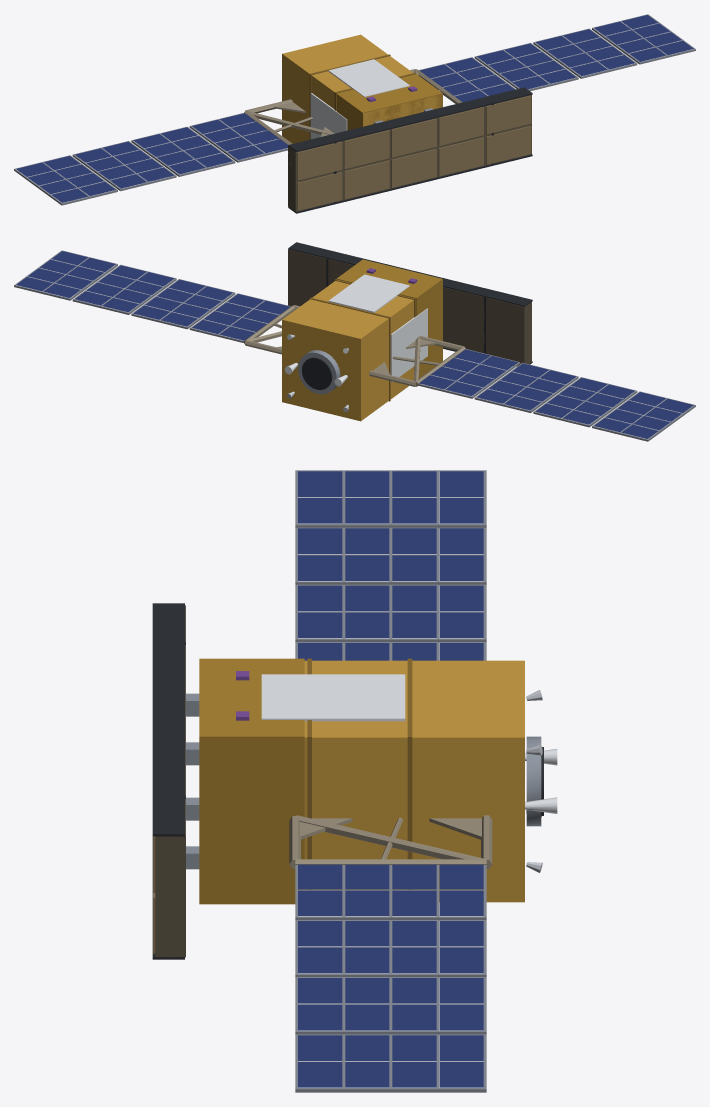
Rendered from csg.glb.
The picture shows the model from 3 angles, top to bottom: view 1: azimuth 30°, elevation 25°; view 2: azimuth 150°, elevation 25°; view 3: azimuth 270°, elevation 25°; orthographic projection. The views are drawn at different scales.
Visible parts, largest first — view 1: body, solar-panel, foil; view 2: body, solar-panel, foil; view 3: solar-panel, foil, body.
Part boxes in pixels (box(x1,y1,x2,y2)): body: box(14, 14, 695, 213); solar-panel: box(16, 15, 693, 202); foil: box(282, 34, 442, 143); body: box(14, 242, 695, 441); solar-panel: box(16, 251, 693, 438); foil: box(282, 259, 442, 421); solar-panel: box(298, 471, 483, 1087); foil: box(199, 658, 524, 904); body: box(152, 470, 557, 1092).
Size of the model in its own units: 15.3 by 2.03 by 4.23.
